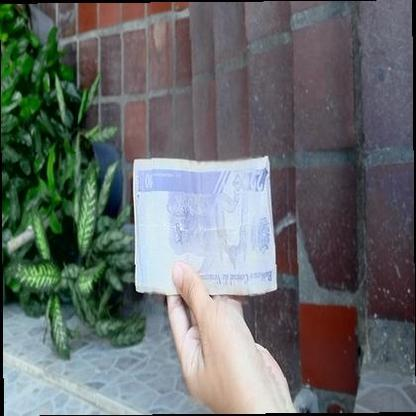ten-back-vef: (134, 158, 278, 294)
